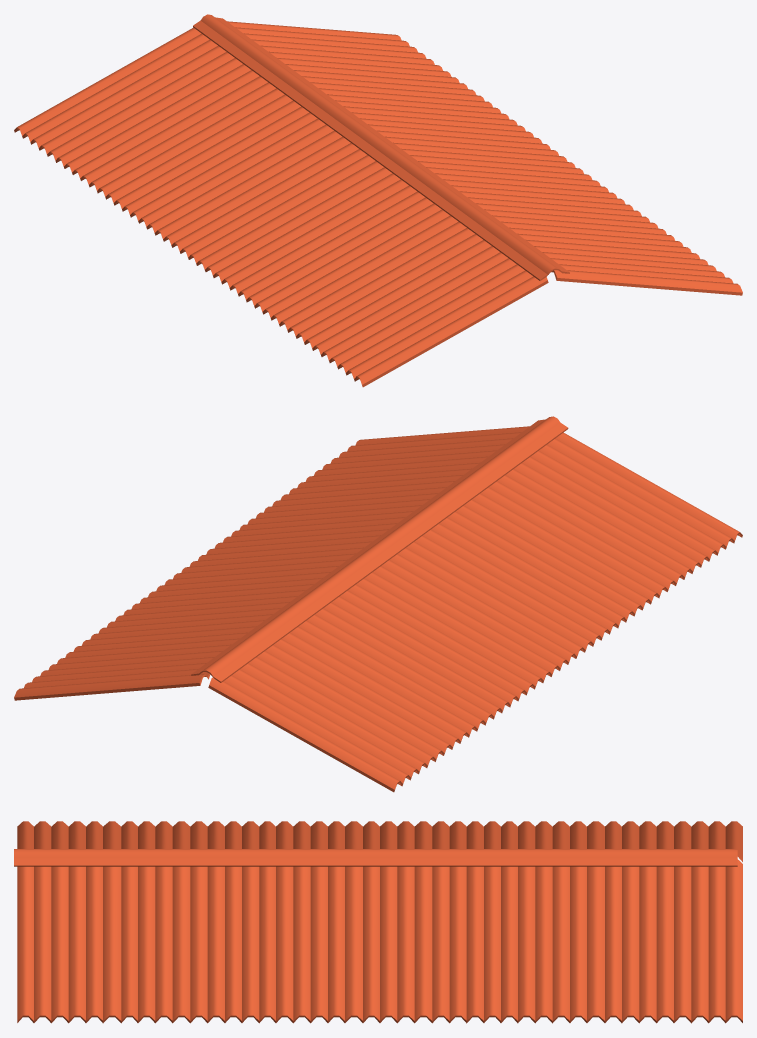
Rendered from roof3.glb.
3 renders of one model, top to bottom at view 1: azimuth 30°, elevation 25°; view 2: azimuth 150°, elevation 25°; view 3: azimuth 270°, elevation 25°, orthographic. The views are drawn at different scales.
Visible parts, largest first — view 1: polySurface1117, polySurface1118, polySurface1120, polySurface1119, polySurface968, polySurface1121; view 2: polySurface1117, polySurface1120, polySurface1118, polySurface1119, polySurface1121, polySurface968; view 3: polySurface1118, polySurface1120, polySurface1119, polySurface1117, polySurface968, polySurface1121.
Part boxes in pixels (x1,y1,x2,y2): polySurface1117: (14,27,548,387); polySurface1118: (459,191,742,295); polySurface1120: (227,21,509,119); polySurface1119: (343,106,625,204); polySurface968: (366,141,569,280); polySurface1121: (193,14,395,153); polySurface1117: (208,432,742,792); polySurface1120: (14,596,297,700); polySurface1118: (248,426,529,524); polySurface1119: (131,511,413,609); polySurface1121: (191,543,394,682); polySurface968: (365,416,568,555); polySurface1118: (17,866,259,1023); polySurface1120: (501,859,742,1023); polySurface1119: (259,866,500,1023); polySurface1117: (17,821,742,861); polySurface968: (14,849,375,866); polySurface1121: (376,849,737,866).
Size of the model in its own units: 307 by 57.37 by 489.
